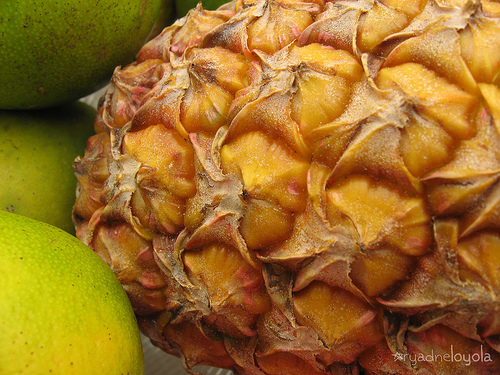pineapple: (74, 0, 499, 374)
